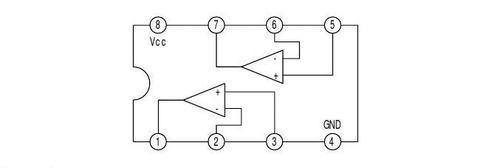amplifier: (179, 81, 231, 119), (240, 47, 289, 87)
